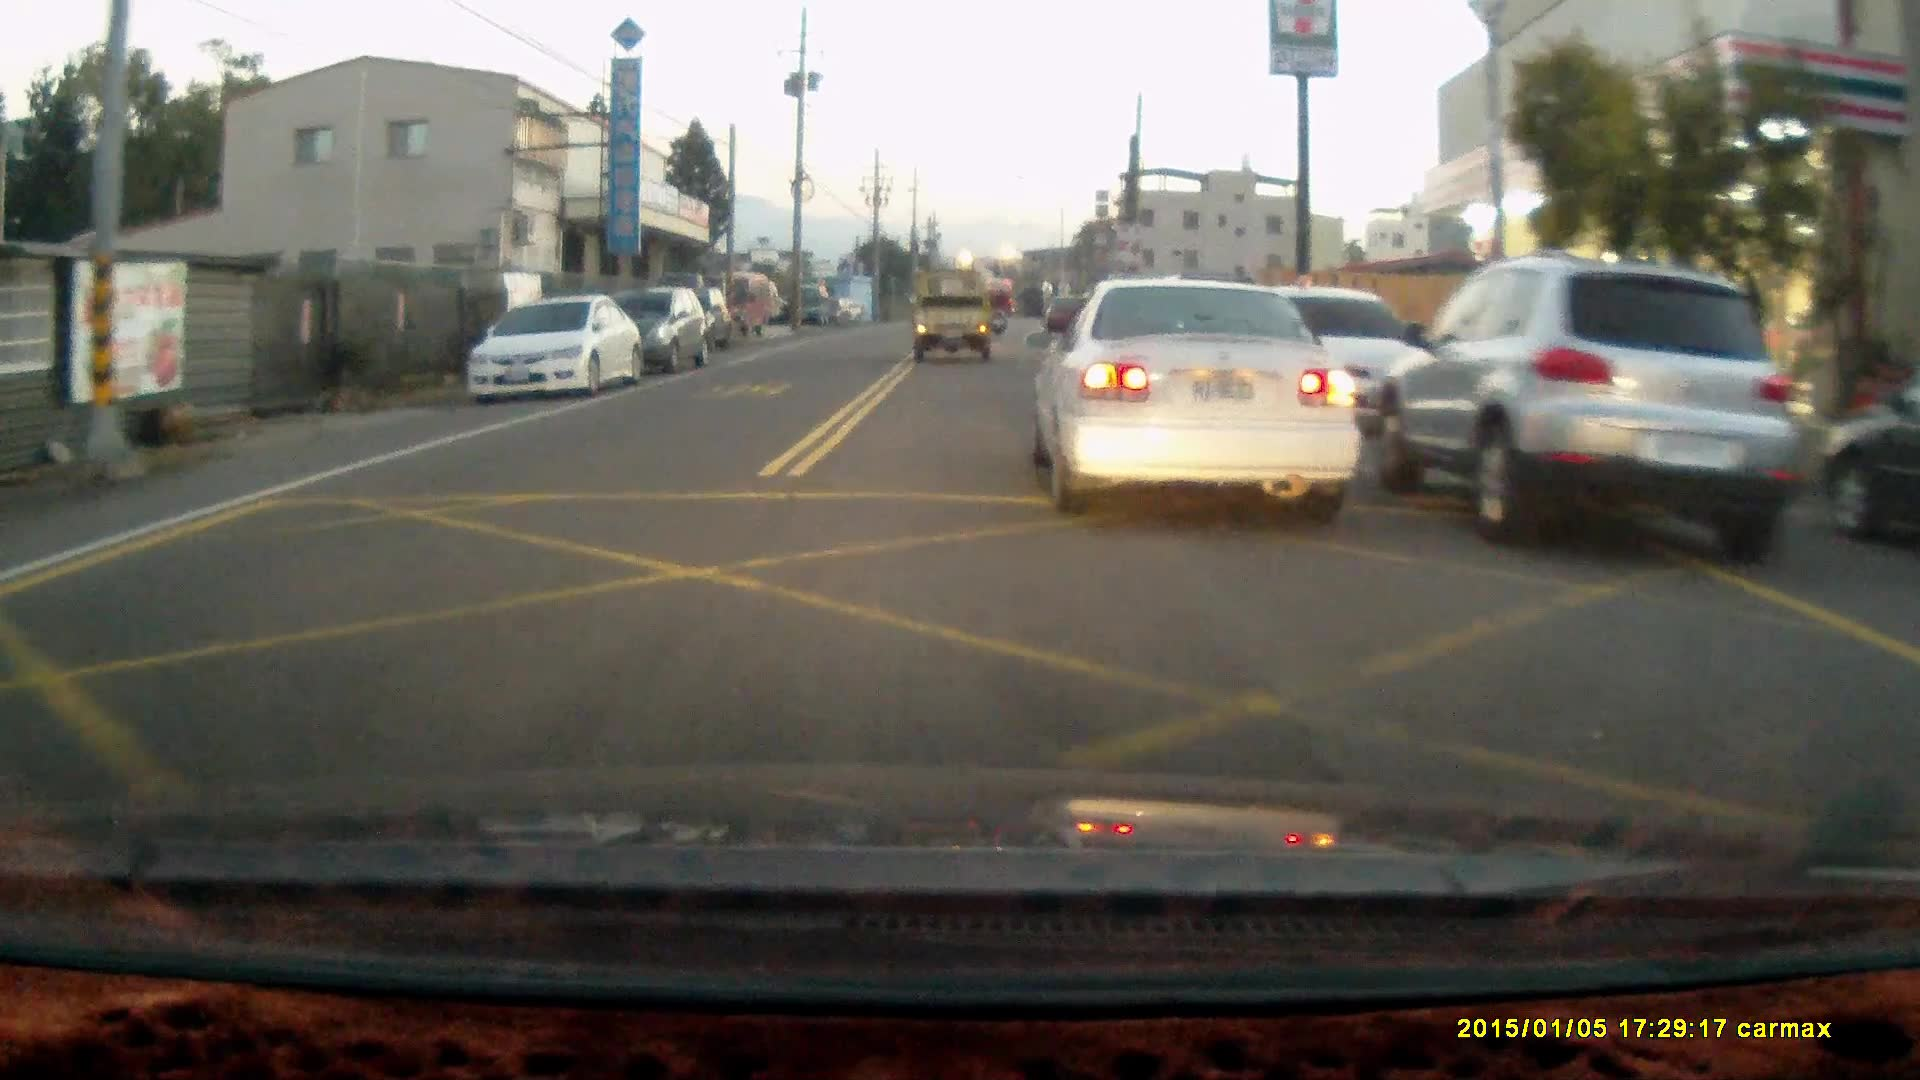rider: (985, 285, 1012, 336)
vehicle: (1370, 263, 1793, 563), (1035, 278, 1363, 514), (468, 296, 641, 412), (1814, 380, 1919, 553), (601, 295, 712, 381), (910, 270, 997, 365), (634, 286, 733, 360), (714, 273, 777, 342)
